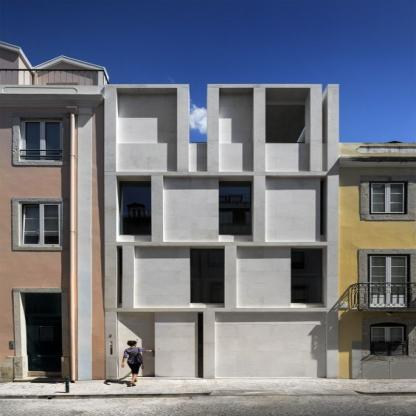Building Outline: (105, 84, 339, 380)
Door: (118, 312, 198, 378)
Facade: (105, 84, 339, 379)
Floor Slab: (106, 172, 339, 176), (105, 308, 338, 312), (105, 242, 338, 245)
Glass Wall: (191, 248, 225, 302), (290, 248, 323, 302), (219, 181, 252, 235), (119, 181, 151, 235)
Pillar: (177, 88, 189, 172), (207, 88, 219, 172), (254, 88, 265, 172), (312, 88, 323, 172), (203, 312, 215, 379), (151, 175, 163, 242), (122, 245, 134, 308), (225, 245, 237, 308), (254, 175, 265, 242)
Window: (164, 176, 254, 242), (238, 246, 328, 308), (134, 246, 224, 308), (116, 88, 177, 172), (266, 176, 328, 242), (265, 88, 310, 172), (220, 88, 254, 172), (116, 176, 151, 242), (265, 104, 304, 143), (117, 246, 122, 307), (198, 312, 202, 378), (321, 177, 325, 235)
